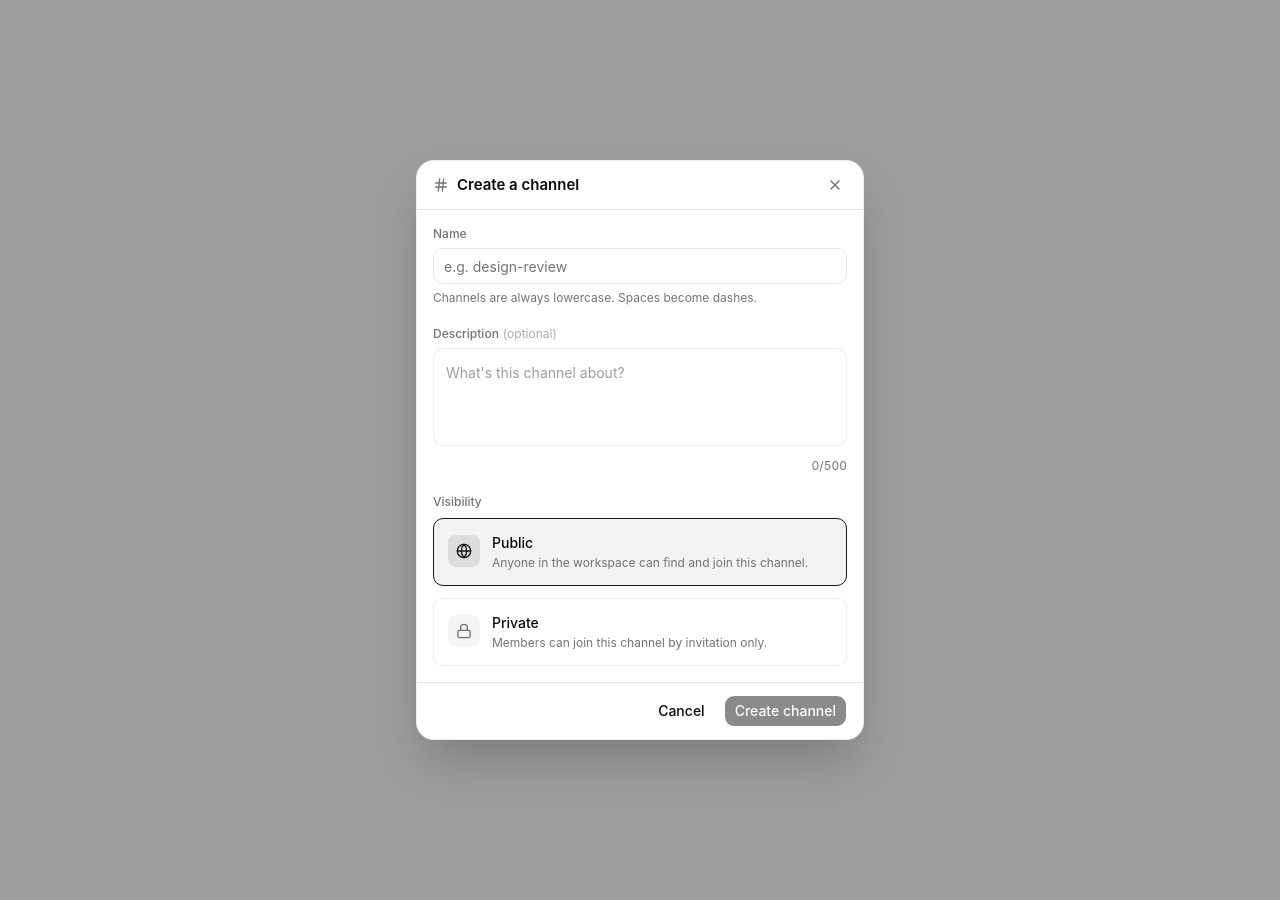
CreateChannelModal › shows the normalized slug preview while typing
In the field labelled "Name": point(640, 266) [433,248,847,284], type "# Design Review"
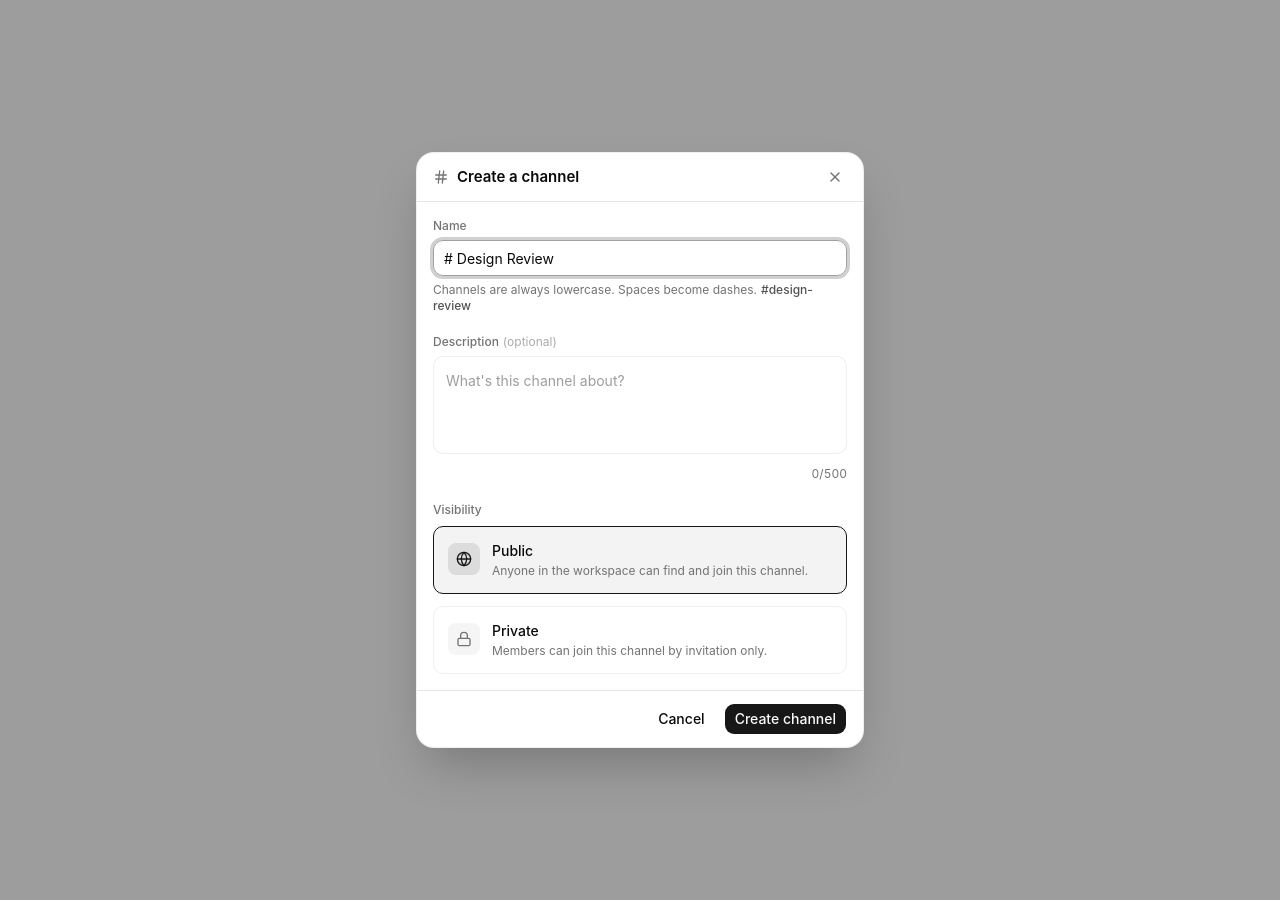
Check: the text "#design-review" is shown, box [433,282,813,313]
